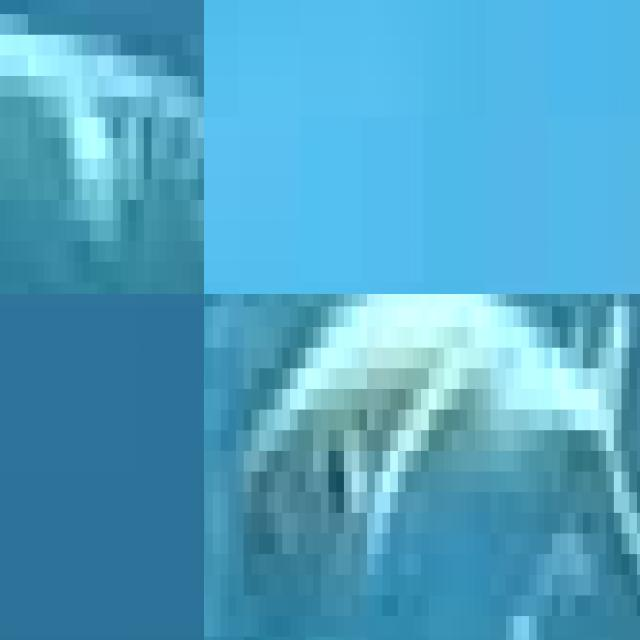fish: (0, 0, 204, 294)
